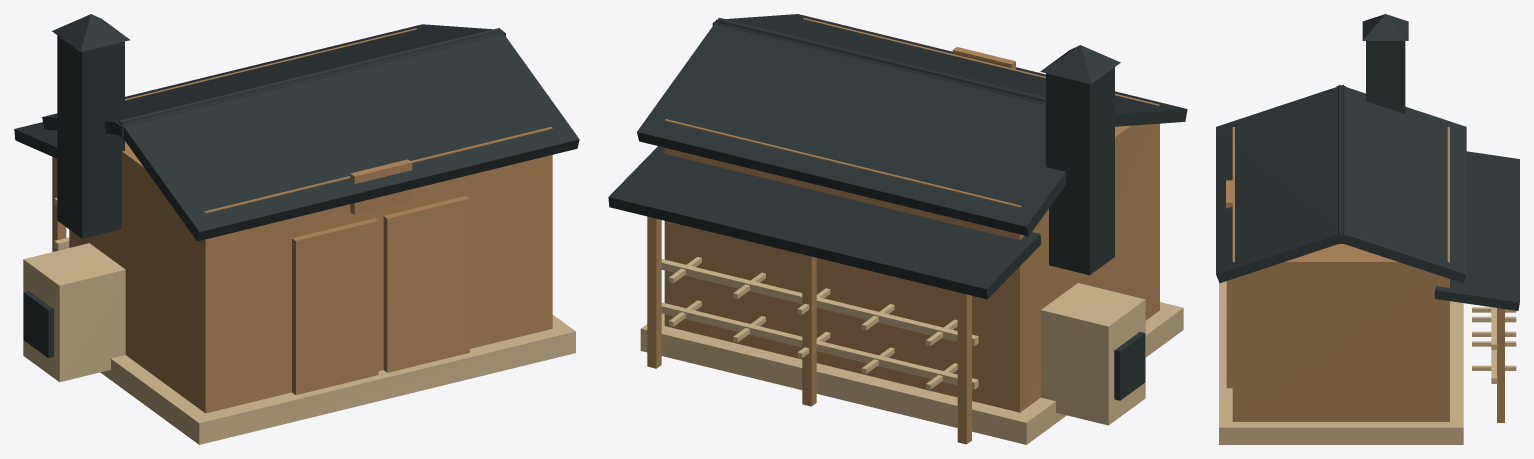
The model's file is fish-smokehouse.source.glb.
The picture shows the model from 3 angles, left to right: view 1: azimuth 30°, elevation 25°; view 2: azimuth 150°, elevation 25°; view 3: azimuth 270°, elevation 25°; orthographic projection. The views are drawn at different scales.
Visible parts, largest first — view 1: fish-smokehouse-gable-roof-panel-0.88-mesh, fish-smokehouse-timber-smokehouse-shell-mesh, fish-smokehouse-stone-foundation-mesh, fish-smokehouse-wide-loading-door-0.62-mesh, fish-smokehouse-wide-loading-door--0.62-mesh, fish-smokehouse-tall-smoke-stack-mesh, fish-smokehouse-masonry-firebox-mesh, fish-smokehouse-gable-roof-panel--0.88-mesh, fish-smokehouse-smoke-stack-cap-mesh, fish-smokehouse-firebox-door-mesh, fish-smokehouse-front-gable-vent-mesh, fish-smokehouse-narrow-rack-canopy-mesh (+2 smaller); view 2: fish-smokehouse-gable-roof-panel--0.88-mesh, fish-smokehouse-timber-smokehouse-shell-mesh, fish-smokehouse-narrow-rack-canopy-mesh, fish-smokehouse-stone-foundation-mesh, fish-smokehouse-tall-smoke-stack-mesh, fish-smokehouse-masonry-firebox-mesh, fish-smokehouse-gable-roof-panel-0.88-mesh, fish-smokehouse-empty-drying-rail-0.85-mesh, fish-smokehouse-empty-drying-rail-1.4-mesh, fish-smokehouse-rack-support-post--2.05-mesh, fish-smokehouse-rack-support-post-2.05-mesh, fish-smokehouse-rack-support-post-0-mesh (+2 smaller); view 3: fish-smokehouse-timber-smokehouse-shell-mesh, fish-smokehouse-gable-roof-panel-0.88-mesh, fish-smokehouse-gable-roof-panel--0.88-mesh, fish-smokehouse-narrow-rack-canopy-mesh, fish-smokehouse-stone-foundation-mesh, fish-smokehouse-tall-smoke-stack-mesh, fish-smokehouse-smoke-stack-cap-mesh, fish-smokehouse-rack-support-post-2.05-mesh, fish-smokehouse-wide-loading-door-0.62-mesh, fish-smokehouse-roof-ridge-mesh.
Boxes of the visible parts, x1,y1,x2,y2 form: fish-smokehouse-gable-roof-panel-0.88-mesh: (119, 28, 579, 241); fish-smokehouse-timber-smokehouse-shell-mesh: (69, 28, 552, 413); fish-smokehouse-stone-foundation-mesh: (100, 315, 575, 444); fish-smokehouse-wide-loading-door-0.62-mesh: (383, 196, 469, 372); fish-smokehouse-wide-loading-door--0.62-mesh: (292, 218, 378, 394); fish-smokehouse-tall-smoke-stack-mesh: (57, 35, 124, 238); fish-smokehouse-masonry-firebox-mesh: (23, 243, 125, 382); fish-smokehouse-gable-roof-panel--0.88-mesh: (42, 24, 502, 134); fish-smokehouse-smoke-stack-cap-mesh: (52, 14, 130, 52); fish-smokehouse-firebox-door-mesh: (23, 291, 53, 357); fish-smokehouse-front-gable-vent-mesh: (350, 159, 412, 214); fish-smokehouse-narrow-rack-canopy-mesh: (14, 122, 57, 158); fish-smokehouse-gable-roof-panel--0.88-mesh: (637, 17, 1065, 236); fish-smokehouse-timber-smokehouse-shell-mesh: (664, 18, 1159, 412); fish-smokehouse-narrow-rack-canopy-mesh: (608, 146, 1041, 299); fish-smokehouse-stone-foundation-mesh: (640, 302, 1183, 444); fish-smokehouse-tall-smoke-stack-mesh: (1046, 67, 1114, 275); fish-smokehouse-masonry-firebox-mesh: (1041, 283, 1145, 425); fish-smokehouse-gable-roof-panel-0.88-mesh: (715, 14, 1187, 126); fish-smokehouse-empty-drying-rail-0.85-mesh: (661, 302, 978, 389); fish-smokehouse-empty-drying-rail-1.4-mesh: (661, 259, 978, 345); fish-smokehouse-rack-support-post--2.05-mesh: (957, 292, 971, 444); fish-smokehouse-rack-support-post-2.05-mesh: (647, 216, 661, 368); fish-smokehouse-rack-support-post-0-mesh: (802, 254, 816, 406); fish-smokehouse-timber-smokehouse-shell-mesh: (1232, 127, 1449, 421); fish-smokehouse-gable-roof-panel-0.88-mesh: (1216, 85, 1344, 283); fish-smokehouse-gable-roof-panel--0.88-mesh: (1336, 84, 1466, 283); fish-smokehouse-narrow-rack-canopy-mesh: (1434, 151, 1519, 310); fish-smokehouse-stone-foundation-mesh: (1219, 281, 1463, 444); fish-smokehouse-tall-smoke-stack-mesh: (1366, 41, 1405, 113); fish-smokehouse-smoke-stack-cap-mesh: (1362, 14, 1408, 40); fish-smokehouse-rack-support-post-2.05-mesh: (1497, 308, 1504, 422); fish-smokehouse-wide-loading-door-0.62-mesh: (1226, 279, 1232, 388); fish-smokehouse-roof-ridge-mesh: (1336, 86, 1345, 243).
Size of the model in its own units: 5.92 by 4.6 by 4.47.
